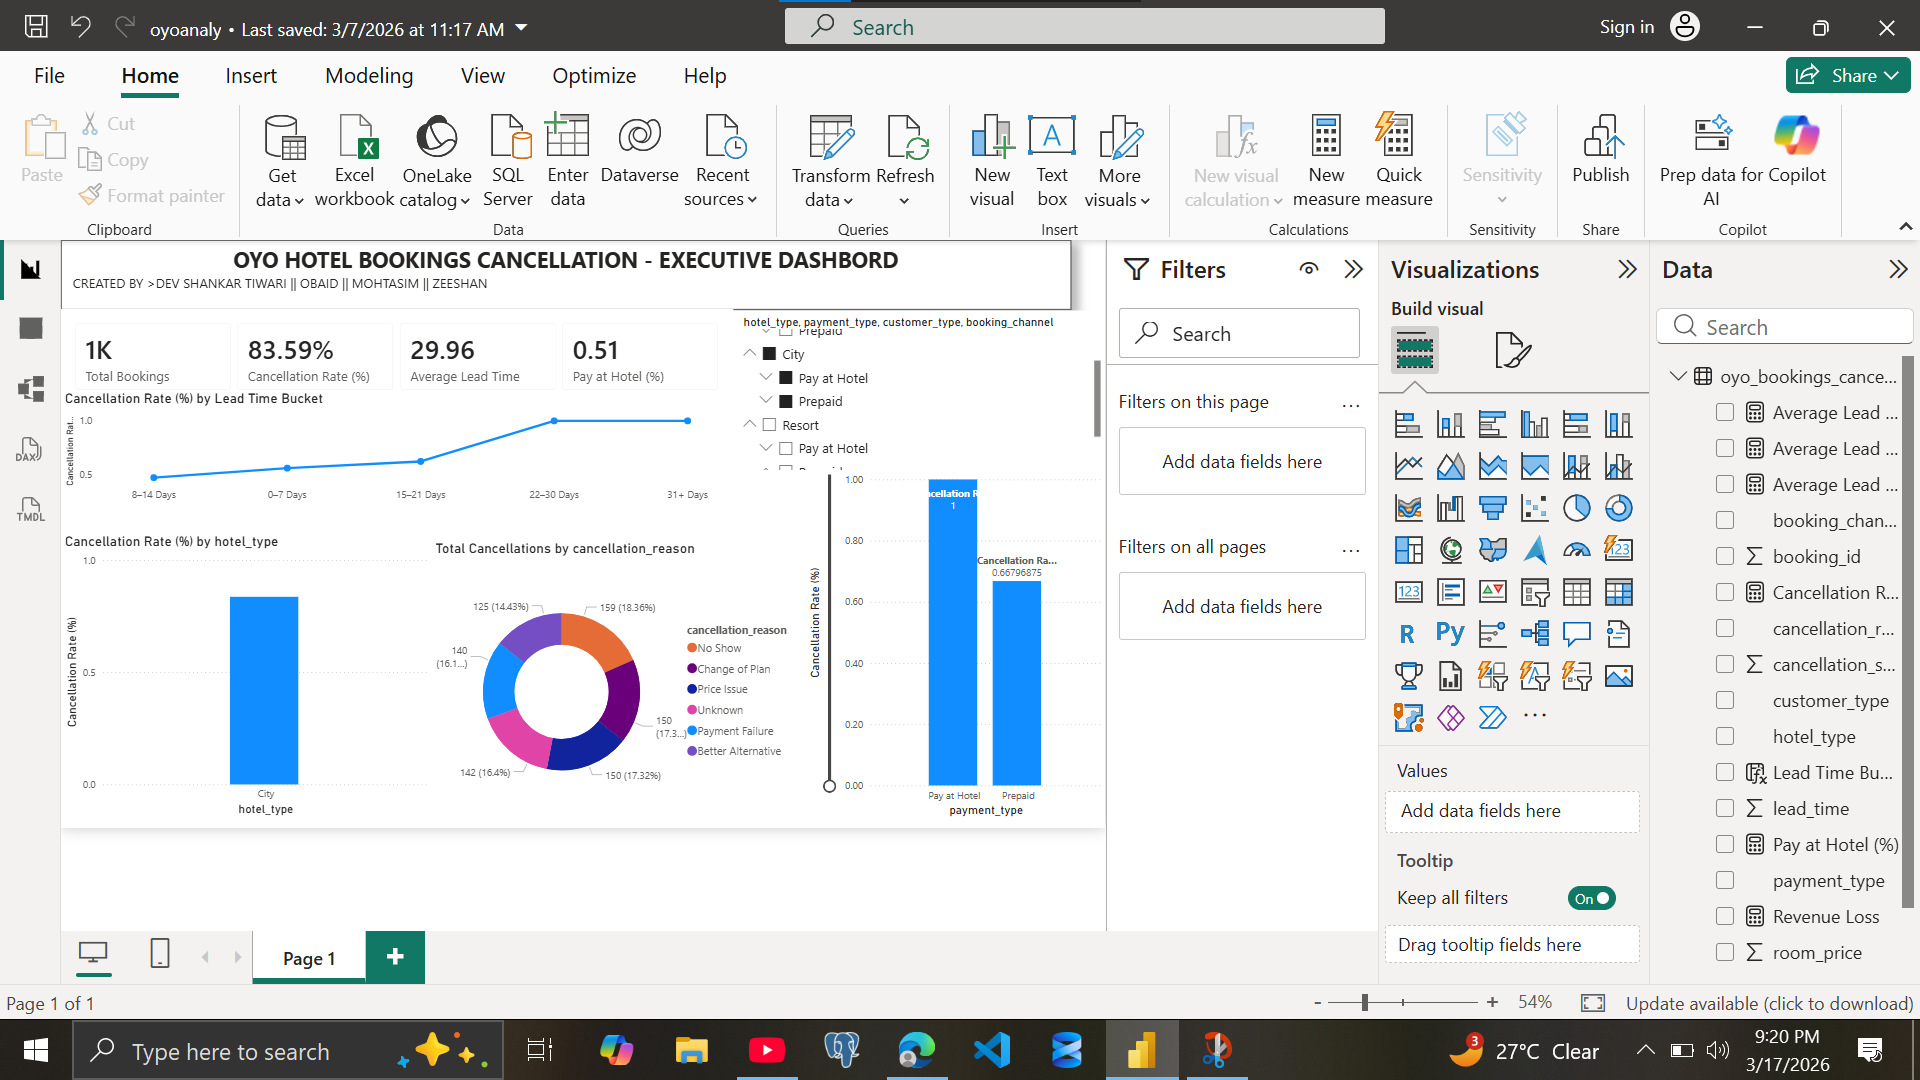

This screenshot's page, from the dashboard's own definition file:
{"tool":"powerbi","page":{"name":"Page 1","canvas":[1280,720],"ordinal":0},"visuals":[{"type":"textbox","box":[0,0,1237.8,85],"z":0},{"type":"cardVisual","fields":{"Data":["oyo_bookings_clean.Total Bookings","oyo_bookings_clean.Cancellation Rate (%)","oyo_bookings_clean.Average Lead Time","oyo_bookings_clean.Pay at Hotel (%)"]},"box":[0,85.1,824.1,116.1],"z":1000},{"type":"lineChart","fields":{"Category":["oyo_bookings_clean.Lead Time Bucket"],"Y":["oyo_bookings_clean.Cancellation Rate (%)"]},"box":[0,184,838,146],"z":2000},{"type":"clusteredColumnChart","fields":{"Category":["oyo_bookings_clean.payment_type"],"Y":["oyo_bookings_clean.Cancellation Rate (%)","select","select1"]},"box":[910,238,370,474],"z":3000},{"type":"columnChart","fields":{"Category":["oyo_bookings_clean.hotel_type"],"Y":["oyo_bookings_clean.Cancellation Rate (%)"]},"box":[0,359.2,454.9,351.4],"z":4000},{"type":"donutChart","fields":{"Category":["oyo_bookings_clean.cancellation_reason"],"Y":["oyo_bookings_clean.Total Cancellations"]},"box":[454,368,456,352],"z":5000},{"type":"slicer","fields":{"Values":["oyo_bookings_clean.hotel_type","oyo_bookings_clean.payment_type","oyo_bookings_clean.customer_type","oyo_bookings_clean.booking_channel"]},"box":[824,86,432,196],"z":6000}]}

Visuals, with their boxes on the page's 1280x720 design canvas (x1, y1, x2, y2). These are canvas units, not pixel positions in the 1920x1080 screenshot, which may show the page scaled, cropped or inside an application window:
textbox: region(0, 0, 1238, 85)
cardVisual - oyo_bookings_clean.Total Bookings x oyo_bookings_clean.Cancellation Rate (%): region(0, 85, 824, 201)
lineChart - oyo_bookings_clean.Lead Time Bucket x oyo_bookings_clean.Cancellation Rate (%): region(0, 184, 838, 330)
clusteredColumnChart - oyo_bookings_clean.payment_type x oyo_bookings_clean.Cancellation Rate (%): region(910, 238, 1280, 712)
columnChart - oyo_bookings_clean.hotel_type x oyo_bookings_clean.Cancellation Rate (%): region(0, 359, 455, 711)
donutChart - oyo_bookings_clean.cancellation_reason x oyo_bookings_clean.Total Cancellations: region(454, 368, 910, 720)
slicer - oyo_bookings_clean.hotel_type x oyo_bookings_clean.payment_type: region(824, 86, 1256, 282)
